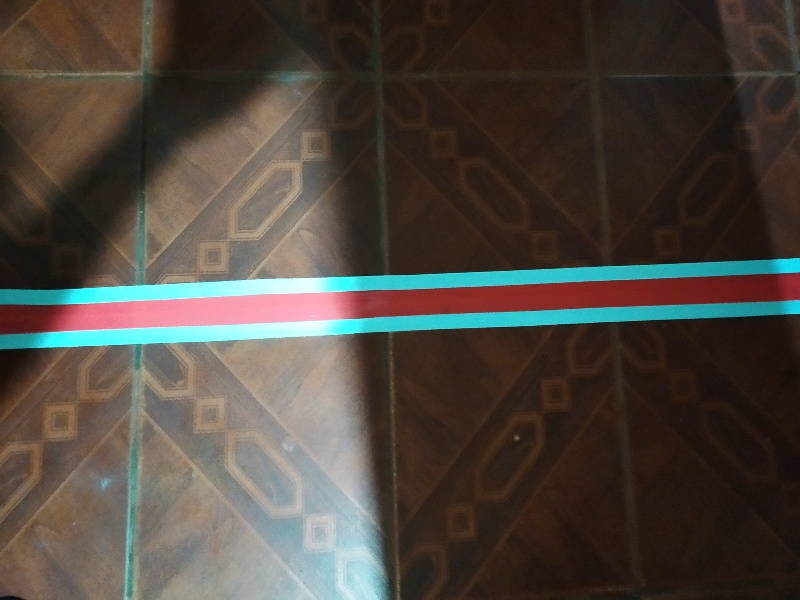reta: (7, 266, 800, 338)
